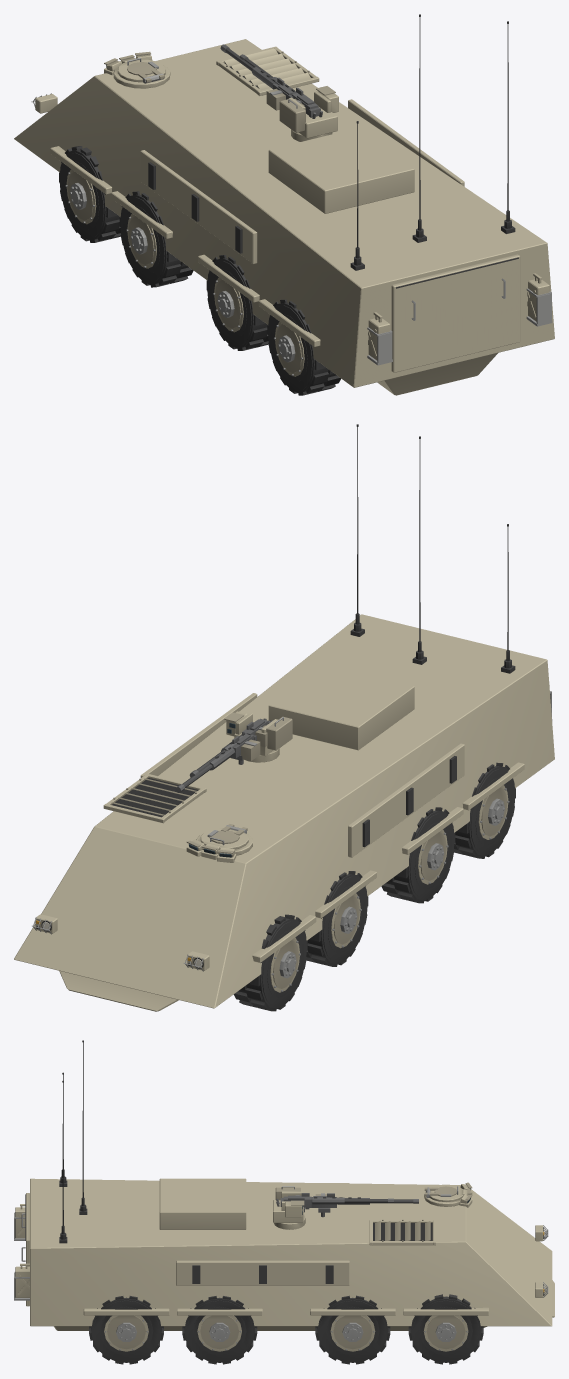
The model's file is usa_cst_acvc.glb.
3 renders of one model, top to bottom at view 1: azimuth 30°, elevation 25°; view 2: azimuth 150°, elevation 25°; view 3: azimuth 270°, elevation 25°, orthographic. The views are drawn at different scales.
Parts seen in each view (by area): view 1: body, door, wheel_2, wheel_6, wheel_0, wheel_4, turret, barrel; view 2: body, wheel_0, wheel_4, wheel_2, wheel_6, turret, barrel; view 3: body, wheel_1, wheel_3, wheel_5, wheel_7, turret, barrel, door.
Boxes of the visible parts, x1,y1,x2,y2 form: body: (14, 14, 554, 395); door: (391, 254, 520, 372); wheel_2: (119, 191, 193, 287); wheel_6: (267, 299, 340, 395); wheel_0: (59, 146, 120, 242); wheel_4: (206, 255, 268, 350); turret: (239, 54, 338, 141); barrel: (220, 44, 293, 110); body: (14, 424, 554, 1011); wheel_0: (234, 914, 307, 1011); wheel_4: (381, 807, 455, 903); wheel_2: (306, 871, 368, 966); wheel_6: (453, 762, 515, 858); turret: (189, 711, 292, 777); barrel: (175, 734, 260, 792); body: (14, 1040, 554, 1330); wheel_1: (408, 1294, 483, 1364); wheel_3: (315, 1295, 390, 1364); wheel_5: (182, 1296, 257, 1364); wheel_7: (89, 1296, 163, 1364); turret: (273, 1186, 393, 1229); barrel: (305, 1193, 418, 1217); door: (21, 1193, 29, 1306).
Bounding box in the file's own units: 2.88 × 4.75 × 8.13.
